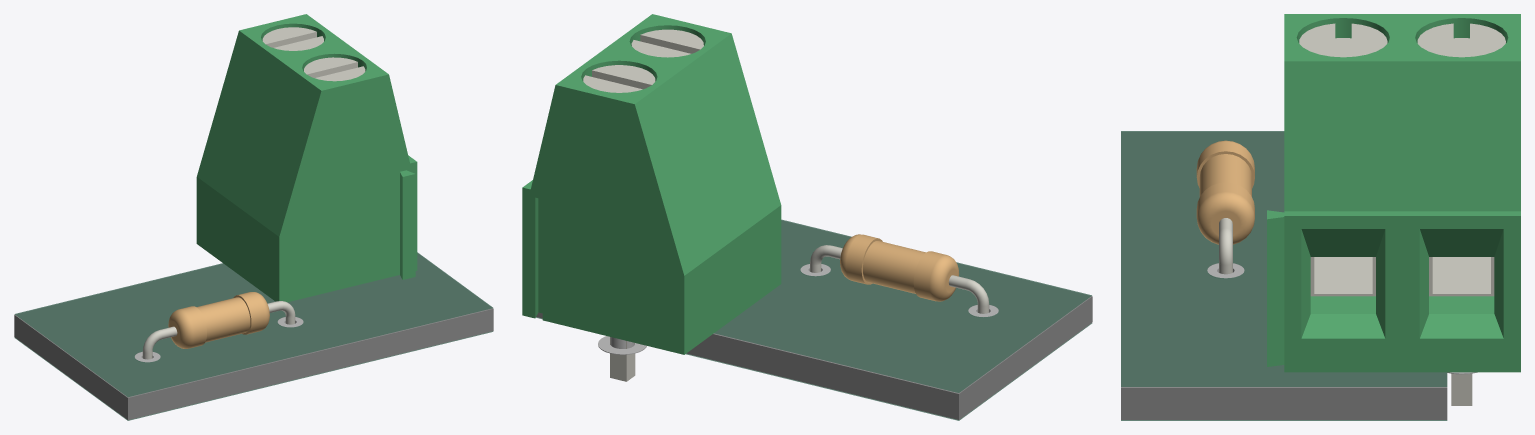
The model's file is terminaison.glb.
3 views of the same model, side by side, from view 1: azimuth 30°, elevation 25°; view 2: azimuth 150°, elevation 25°; view 3: azimuth 270°, elevation 25° (orthographic). The views are drawn at different scales.
Visible parts, largest first — view 1: REF**, =>[0:1:1:7], =>[0:1:1:5]; view 2: REF**, =>[0:1:1:7], =>[0:1:1:5], =>[0:1:1:4]; view 3: REF**, =>[0:1:1:7], =>[0:1:1:5], =>[0:1:1:4].
Part boxes in pixels (left/top/right/bottom): REF**: left=142, top=14, right=417, bottom=359; =>[0:1:1:7]: left=14, top=254, right=493, bottom=419; =>[0:1:1:5]: left=14, top=252, right=493, bottom=420; REF**: left=522, top=14, right=989, bottom=381; =>[0:1:1:7]: left=536, top=221, right=1092, bottom=419; =>[0:1:1:5]: left=536, top=219, right=1092, bottom=420; =>[0:1:1:4]: left=598, top=264, right=998, bottom=354; REF**: left=1196, top=14, right=1520, bottom=405; =>[0:1:1:7]: left=1121, top=132, right=1447, bottom=419; =>[0:1:1:5]: left=1121, top=131, right=1447, bottom=420; =>[0:1:1:4]: left=1207, top=263, right=1477, bottom=374.
Size of the model in its own units: 0.026 by 0.0173 by 0.0172.
4 materials, 4 textured.
